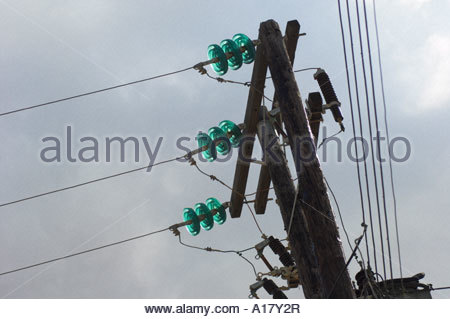isolator: (206, 33, 256, 75), (196, 119, 243, 162), (181, 197, 227, 236)
